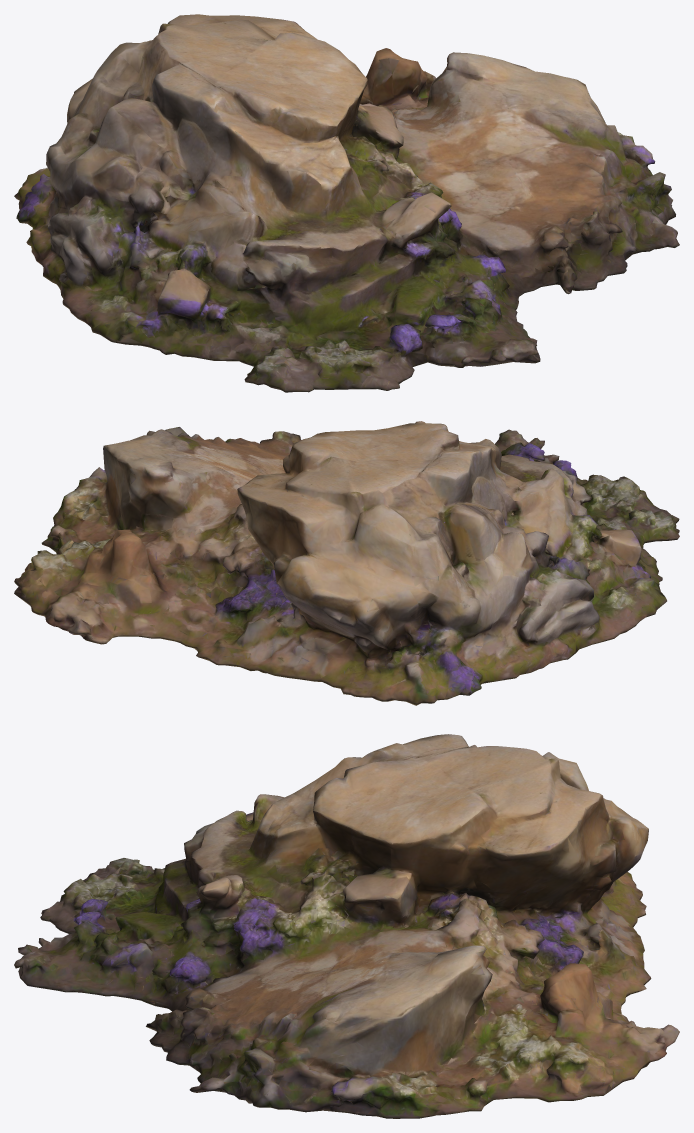
Rendered from Meadow_Rocks.glb.
3 renders of one model, top to bottom at view 1: azimuth 30°, elevation 25°; view 2: azimuth 150°, elevation 25°; view 3: azimuth 270°, elevation 25°, orthographic. The views are drawn at different scales.
Visible parts, largest first — view 1: Meadow_Rocks; view 2: Meadow_Rocks; view 3: Meadow_Rocks.
Part boxes in pixels (box(x1,y1,x2,y2)): Meadow_Rocks: box(14, 14, 679, 392); Meadow_Rocks: box(14, 421, 679, 705); Meadow_Rocks: box(14, 734, 679, 1118).
Size of the model in its own units: 1.99 by 0.5747 by 1.97.
1 material, 1 textured.
